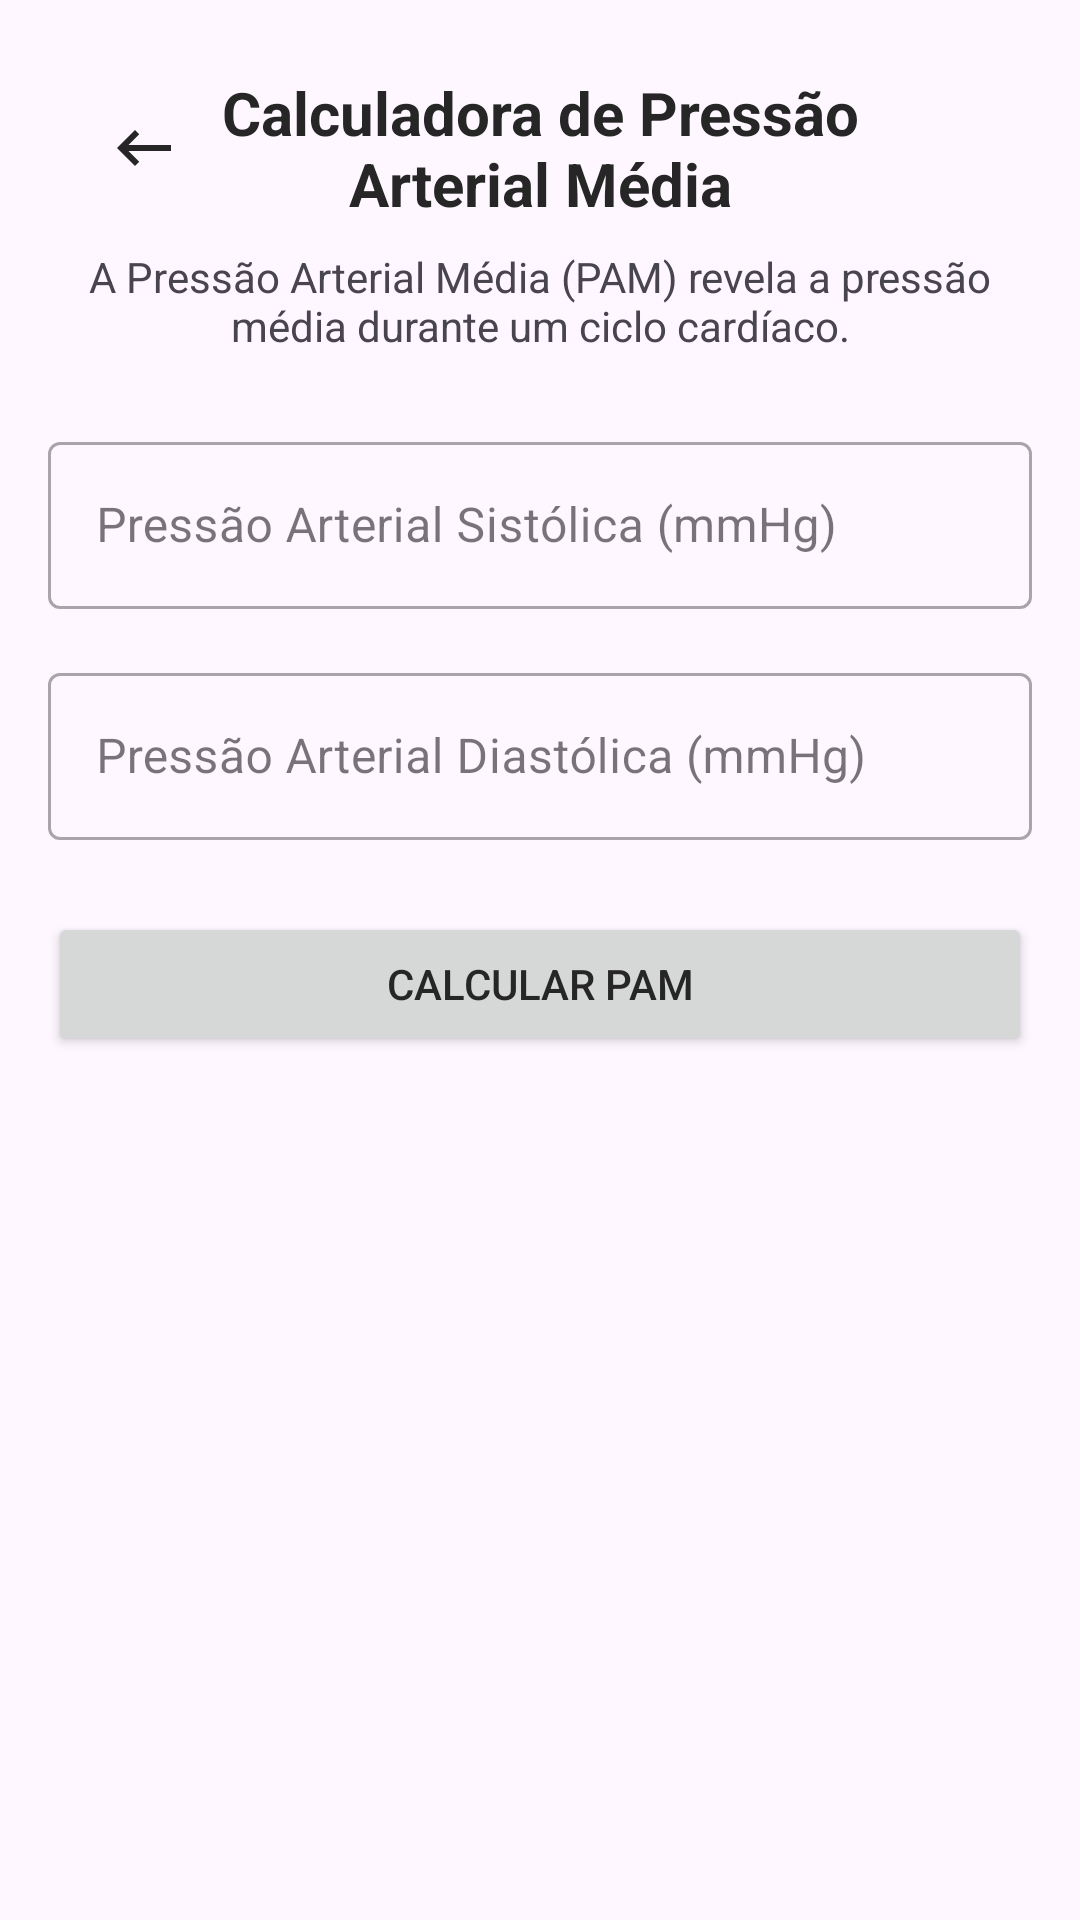

Icons on this 1080w x 1920h Android screen, each with its box as (x1, y1, x2, y2):
Voltar: (117, 130, 171, 166)
